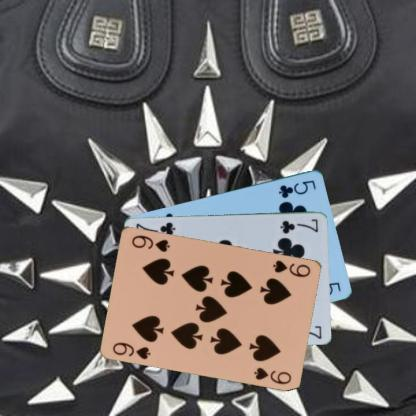5c: (276, 177, 317, 199)
7c: (278, 216, 319, 235)
9s: (270, 257, 312, 279), (110, 339, 152, 361)
